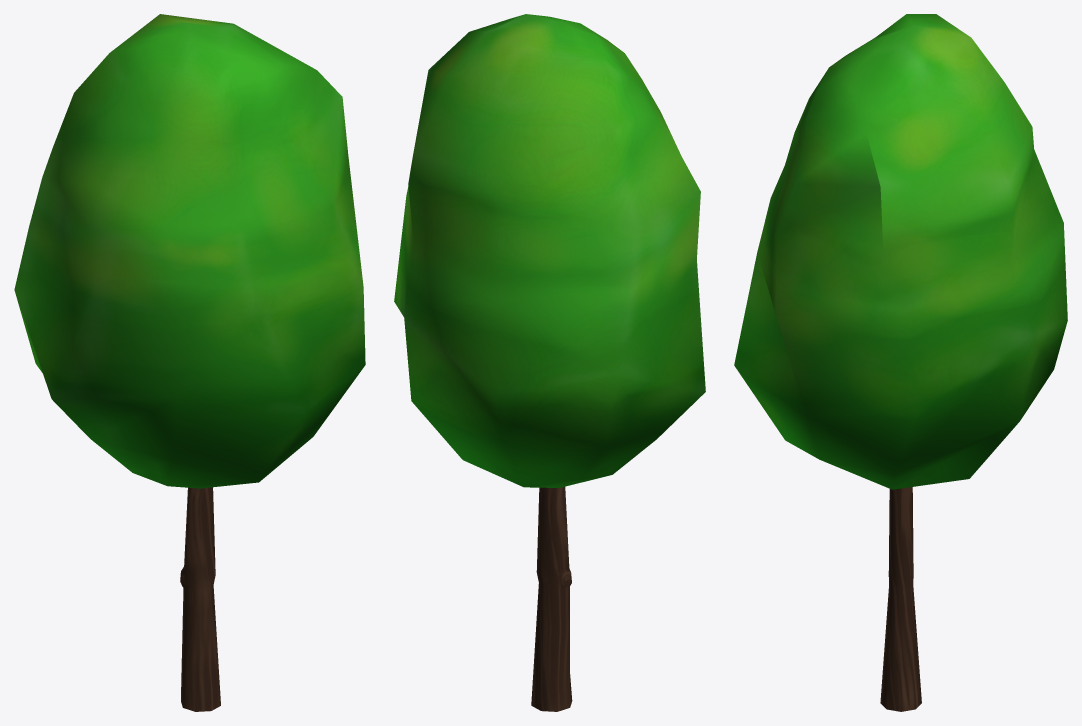
Rendered from baum2b.fbx.
3 renders of one model, left to right at view 1: azimuth 30°, elevation 25°; view 2: azimuth 150°, elevation 25°; view 3: azimuth 270°, elevation 25°, orthographic. The views are drawn at different scales.
Parts seen in each view (by area): view 1: baum2b; view 2: baum2b; view 3: baum2b.
Boxes of the visible parts, x1=… form: baum2b: x1=14, y1=14, x2=365, y2=711; baum2b: x1=394, y1=14, x2=705, y2=711; baum2b: x1=734, y1=14, x2=1067, y2=711.
Bounding box in the file's own units: 0.9057 × 1.97 × 0.8861.
Materials: 1 (1 with a texture image).
